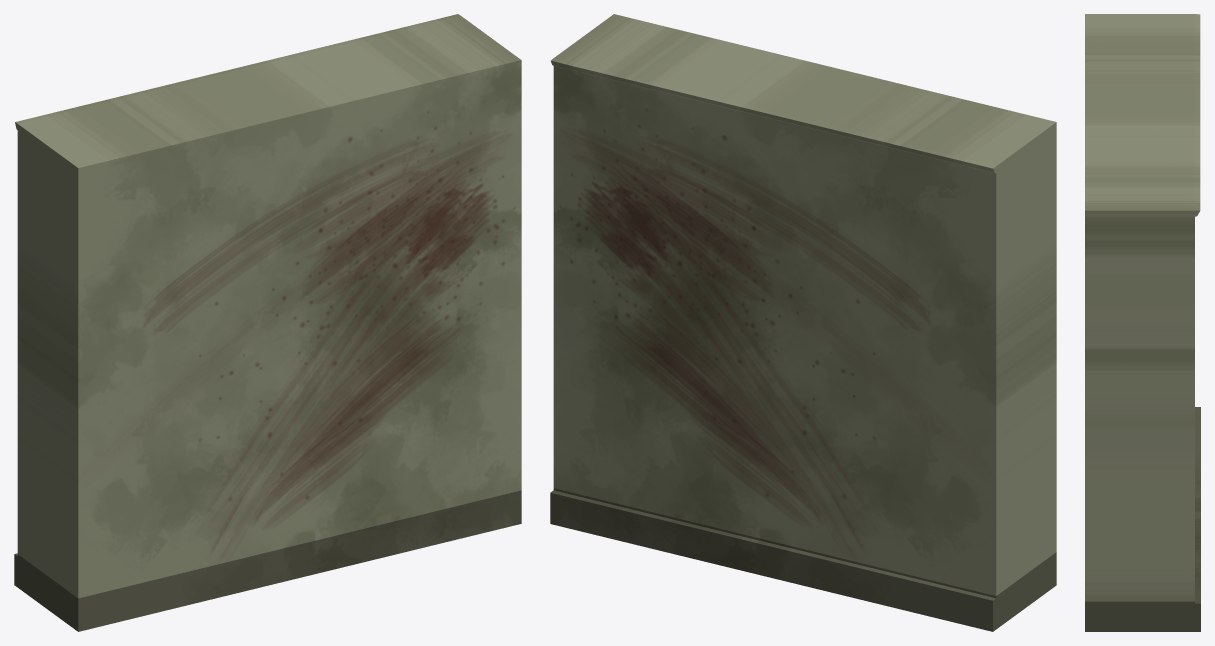
The model's file is Wall_3_R.fbx.
3 views of the same model, side by side, from view 1: azimuth 30°, elevation 25°; view 2: azimuth 150°, elevation 25°; view 3: azimuth 270°, elevation 25° (orthographic). The views are drawn at different scales.
Parts seen in each view (by area): view 1: Wall_3_R; view 2: Wall_3_R; view 3: Wall_3_R.
Part boxes in pixels (x1,y1,x2,y2): Wall_3_R: [14, 14, 521, 631]; Wall_3_R: [550, 14, 1056, 631]; Wall_3_R: [1085, 14, 1200, 631].
Bounding box in the file's own units: 4 × 4 × 0.9977.
